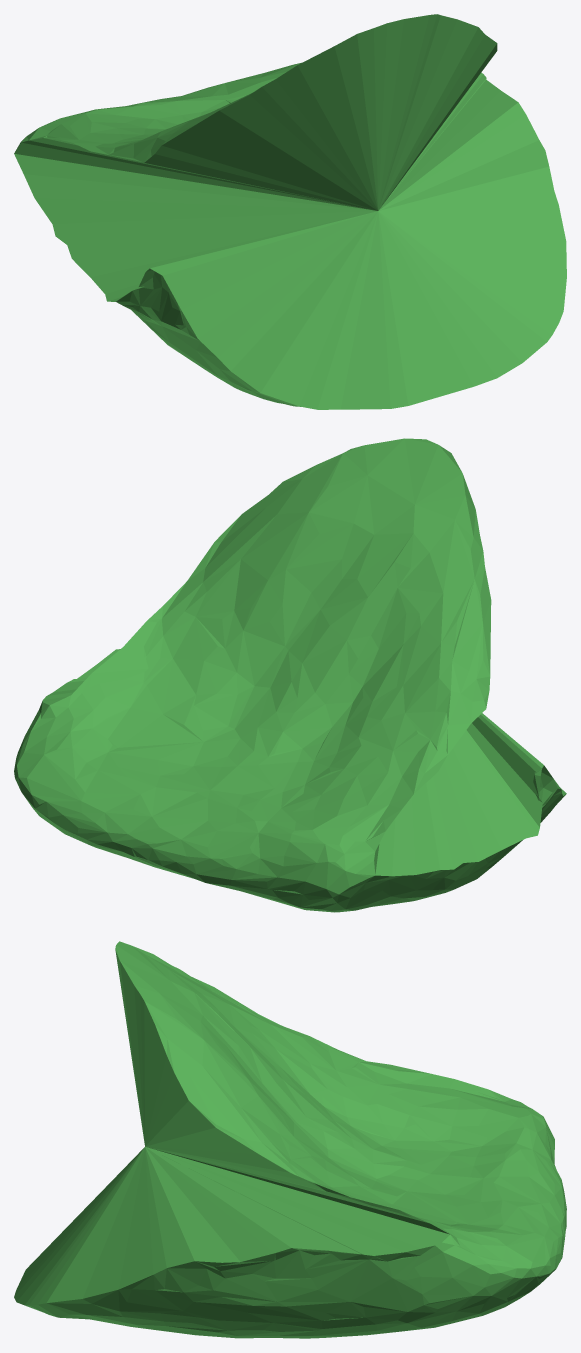
The model's file is Crown_21__Demo_Virtual_Patient.obj.
3 views of the same model, one above another, from view 1: azimuth 30°, elevation 25°; view 2: azimuth 150°, elevation 25°; view 3: azimuth 270°, elevation 25° (orthographic). The views are drawn at different scales.
Size of the model in its own units: 9.27 by 7.69 by 10.74.
